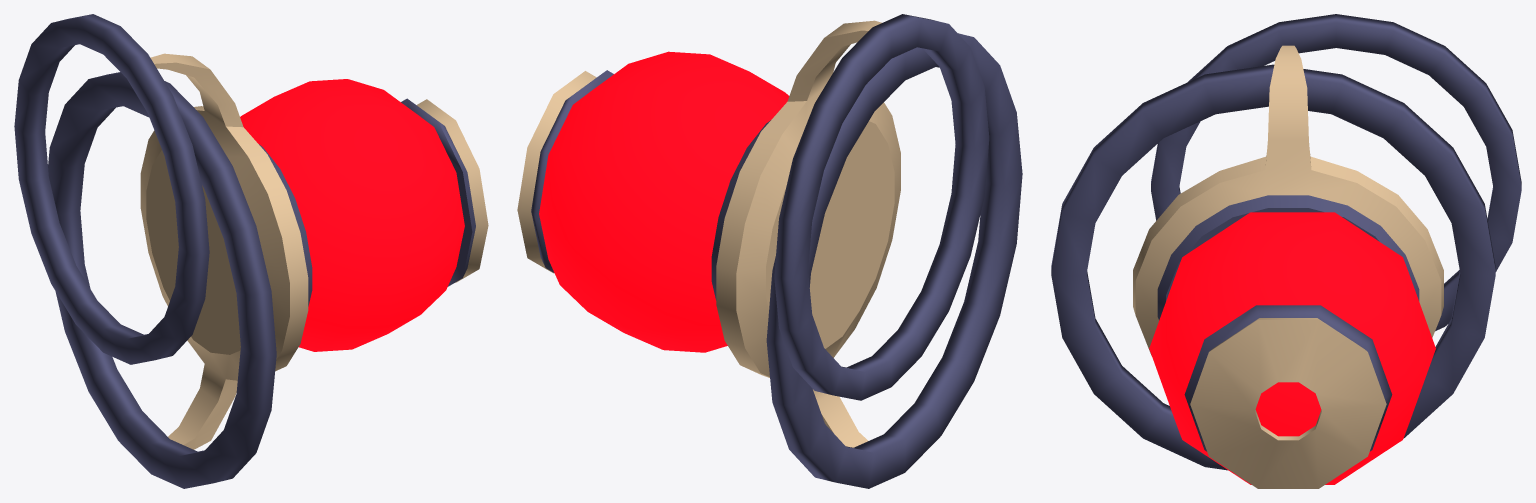
Rendered from Mesh_Light.fbx.
3 renders of one model, left to right at view 1: azimuth 30°, elevation 25°; view 2: azimuth 150°, elevation 25°; view 3: azimuth 270°, elevation 25°, orthographic. The views are drawn at different scales.
Visible parts, largest first — view 1: Diode; view 2: Diode; view 3: Diode.
Part boxes in pixels (box(x1,y1,x2,y2)): Diode: box(14, 14, 488, 488); Diode: box(517, 14, 1022, 488); Diode: box(1051, 14, 1521, 488).
Bounding box in the file's own units: 0.1789 × 0.2214 × 0.2124.
